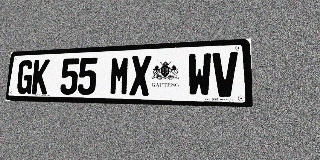5: (77, 57, 98, 95), (60, 58, 79, 95)
G: (16, 60, 34, 94)
K: (31, 59, 50, 94)
M: (109, 56, 130, 96)
V: (212, 52, 238, 97)
W: (187, 53, 212, 97)
X: (129, 55, 151, 96)
